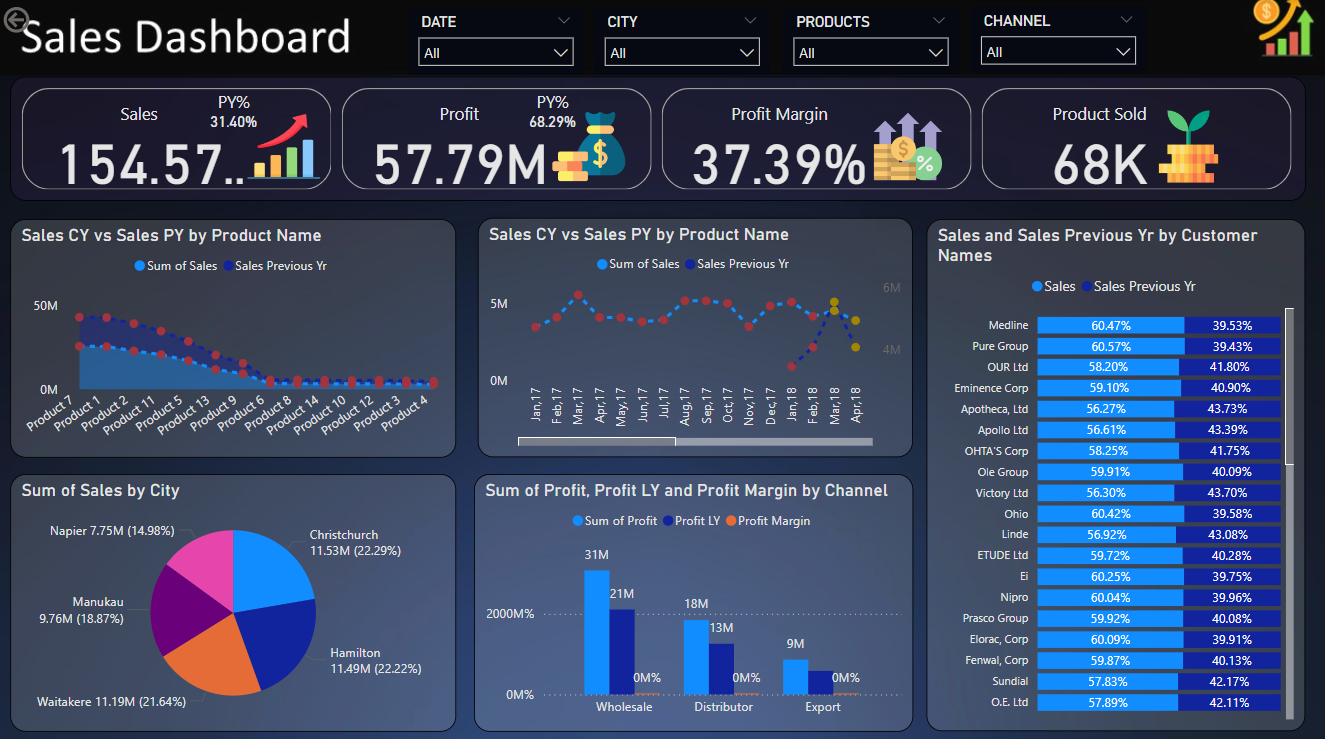

The page's visual inventory and layout, read from the dashboard file:
{"tool":"powerbi","page":{"name":"Page 2","canvas":[1280,720],"ordinal":1},"visuals":[{"type":"slicer","title":"DATE","fields":{"Values":["DateTable.Year","DateTable.Month Short Name Plus Year"]},"box":[394.5,9,170,65],"z":0},{"type":"actionButton","box":[0,0,33.8,39.8],"z":1000},{"type":"slicer","title":"DATE","fields":{"Values":["Regions_Table.City"]},"box":[574.5,9,170,65],"z":2000},{"type":"slicer","title":"DATE","fields":{"Values":["Products_Data.Product Name"]},"box":[756.2,8.8,170,65],"z":3000},{"type":"slicer","title":"DATE","fields":{"Values":["Sales_Data.Channel"]},"box":[937.5,7.5,170,65],"z":4000},{"type":"stackedAreaChart","title":"Sales CY vs Sales PY by Product Name","fields":{"Category":["Products_Data.Product Name"],"Y":["Sum(Sales_Data.Sales)","Measure table.Sales Previous Yr"]},"box":[11.4,212.9,430,230],"z":5000},{"type":"lineChart","title":"Sales CY vs Sales PY by Product Name","fields":{"Category":["DateTable.Month Short Name Plus Year"],"Y":["Sum(Sales_Data.Sales)"],"Y2":["Measure table.Sales Previous Yr"]},"box":[462.5,211.2,420,231.2],"z":6000},{"type":"pieChart","fields":{"Y":["Sum(Sales_Data.Sales)"],"Category":["Regions_Table.City"]},"box":[11.4,458.6,430,248.6],"z":7000},{"type":"lineClusteredColumnComboChart","fields":{"Category":["Sales_Data.Channel"],"Y":["Sum(Sales_Data.Profit)","Measure table.Profit LY","Measure table.Profit Margin"]},"box":[458.6,458.6,424.3,248.6],"z":8000},{"type":"hundredPercentStackedBarChart","fields":{"Category":["Customer_Data.Customer Names"],"Y":["Measure table.Sales","Measure table.Sales Previous Yr"]},"box":[895.7,212.9,365.7,494.3],"z":9000},{"type":"cardVisual","fields":{"Data":["Measure table.Sales","Measure table.Profit","Measure table.Profit Margin","Measure table.Product Sold"]},"box":[11.4,74.3,1250,120],"z":10000},{"type":"card","title":"PY%","fields":{"Values":["Measure table.Sales vs LY%"]},"box":[185.7,88.6,81.4,45.7],"z":11000},{"type":"card","title":"PY%","fields":{"Values":["Measure table.Profit vs LY %"]},"box":[492.9,88.6,81.4,45.7],"z":12000}]}

Visuals, with their boxes in screenshot pixels (x1, y1, x2, y2), scaled from the page's 1280x720 canvas onto the 1325x739 screenshot:
"DATE" slicer: {"left": 408, "top": 9, "right": 584, "bottom": 76}
actionButton: {"left": 0, "top": 0, "right": 35, "bottom": 41}
"DATE" slicer: {"left": 595, "top": 9, "right": 771, "bottom": 76}
"DATE" slicer: {"left": 783, "top": 9, "right": 959, "bottom": 76}
"DATE" slicer: {"left": 970, "top": 8, "right": 1146, "bottom": 74}
"Sales CY vs Sales PY by Product Name" stackedAreaChart: {"left": 12, "top": 219, "right": 457, "bottom": 455}
"Sales CY vs Sales PY by Product Name" lineChart: {"left": 479, "top": 217, "right": 914, "bottom": 454}
pieChart - Sum(Sales_Data.Sales) x Regions_Table.City: {"left": 12, "top": 471, "right": 457, "bottom": 726}
lineClusteredColumnComboChart - Sales_Data.Channel x Sum(Sales_Data.Profit): {"left": 475, "top": 471, "right": 914, "bottom": 726}
hundredPercentStackedBarChart - Customer_Data.Customer Names x Measure table.Sales: {"left": 927, "top": 219, "right": 1306, "bottom": 726}
cardVisual - Measure table.Sales x Measure table.Profit: {"left": 12, "top": 76, "right": 1306, "bottom": 199}
"PY%" card: {"left": 192, "top": 91, "right": 276, "bottom": 138}
"PY%" card: {"left": 510, "top": 91, "right": 594, "bottom": 138}
